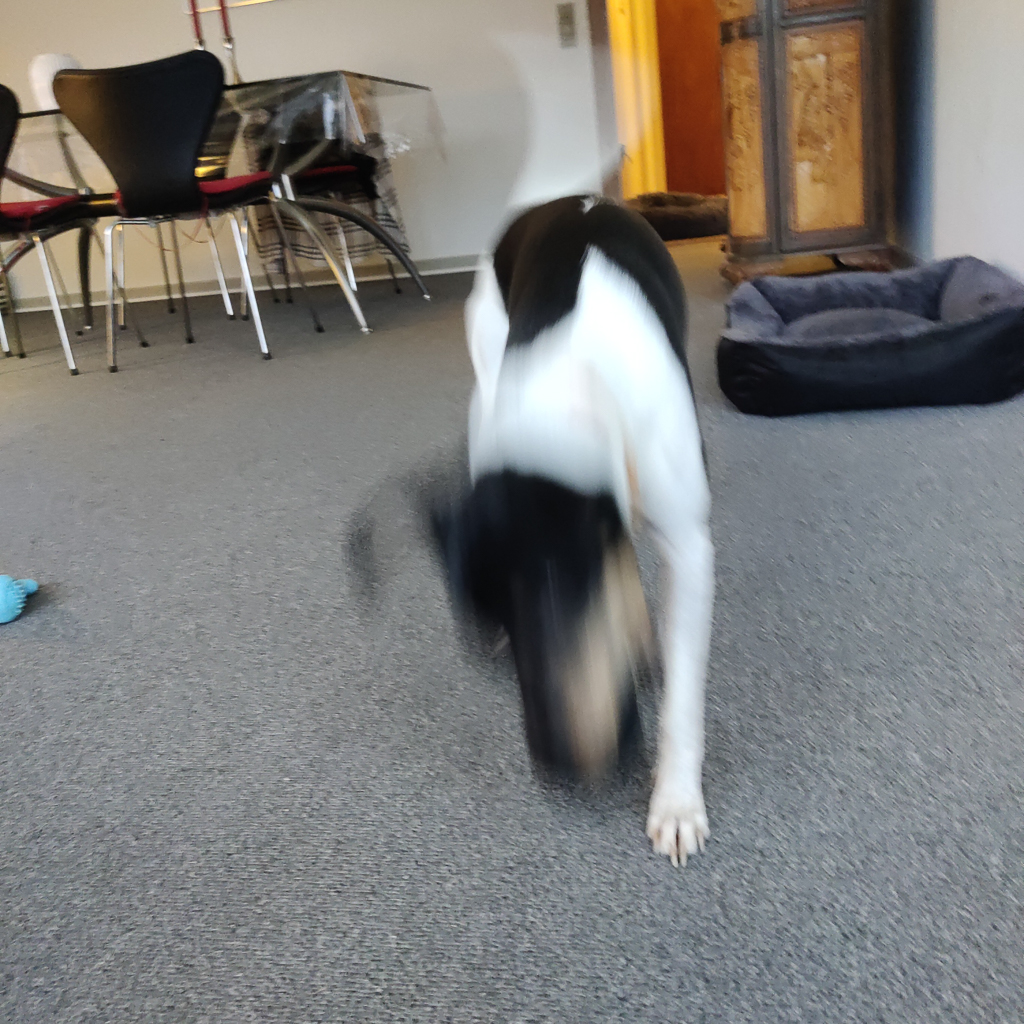Dog: (326, 11, 763, 887)
